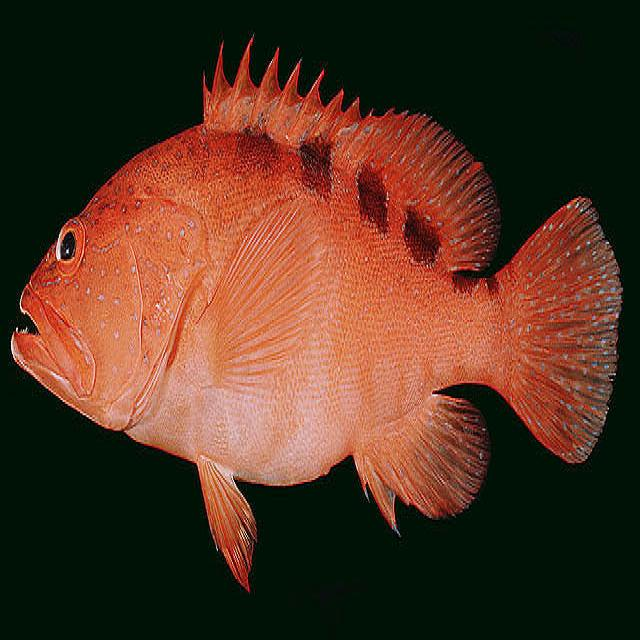ikan: (10, 32, 623, 594)
